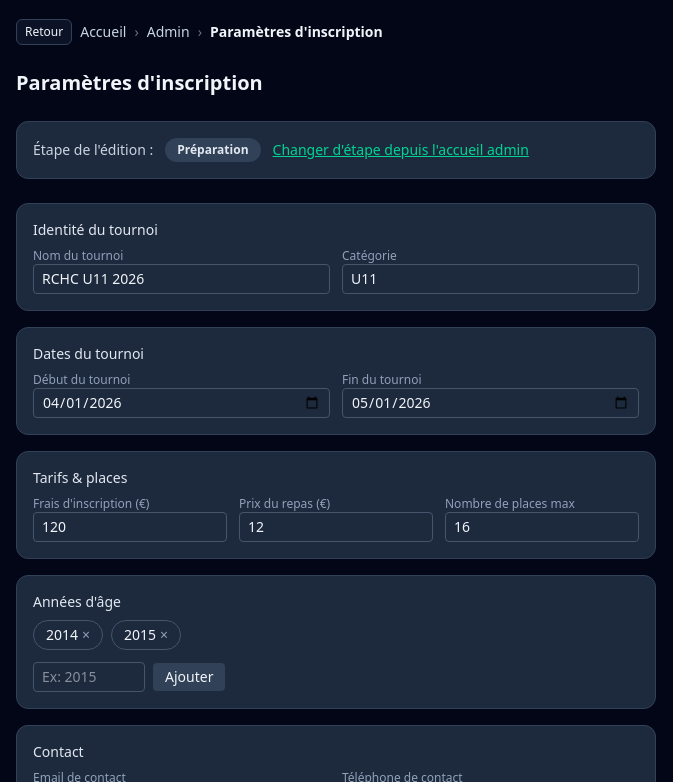
Test: ParametresInscriptionPage › enregistre le formulaire modifié et affiche un message de succès
Replace the text in the number field labelled "Frais d'inscription (€)" with "150". click: {"x": 130, "y": 527}
box: [33,512,227,542]
(page scrolled)
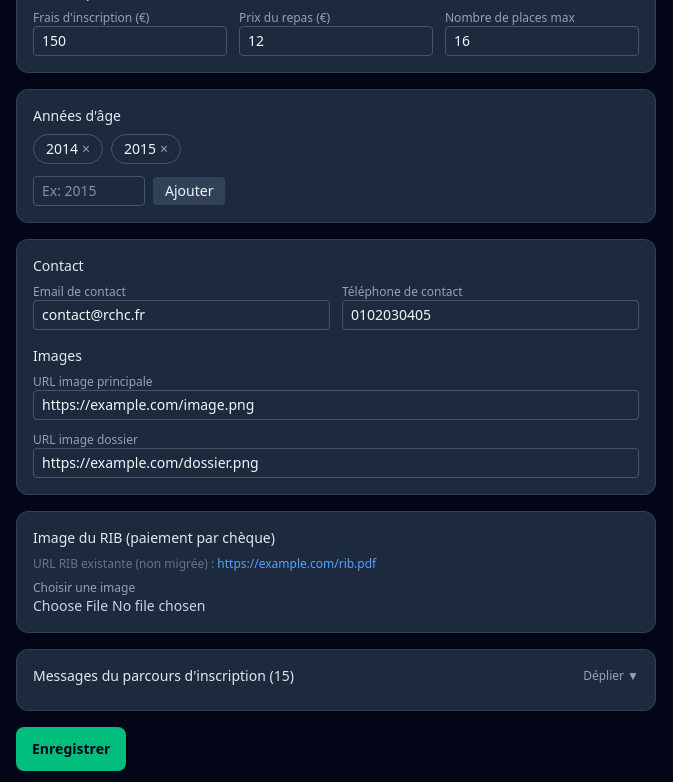
Click the button "Enregistrer". click: {"x": 71, "y": 749}
box: [16,727,126,771]
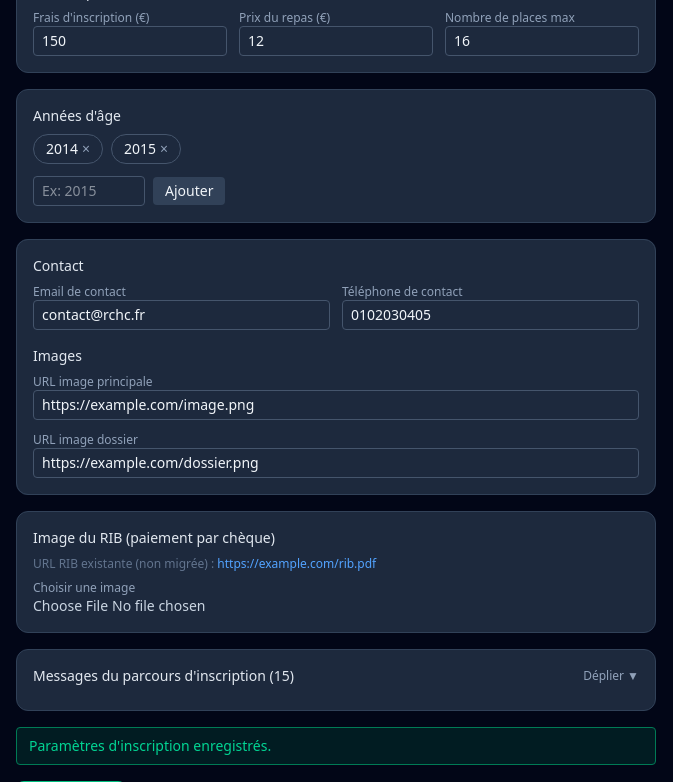
Now the text "Paramètres d'inscription enregistrés." is shown, box [16,727,656,765]
